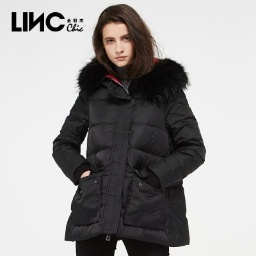face: (91, 2, 161, 75)
